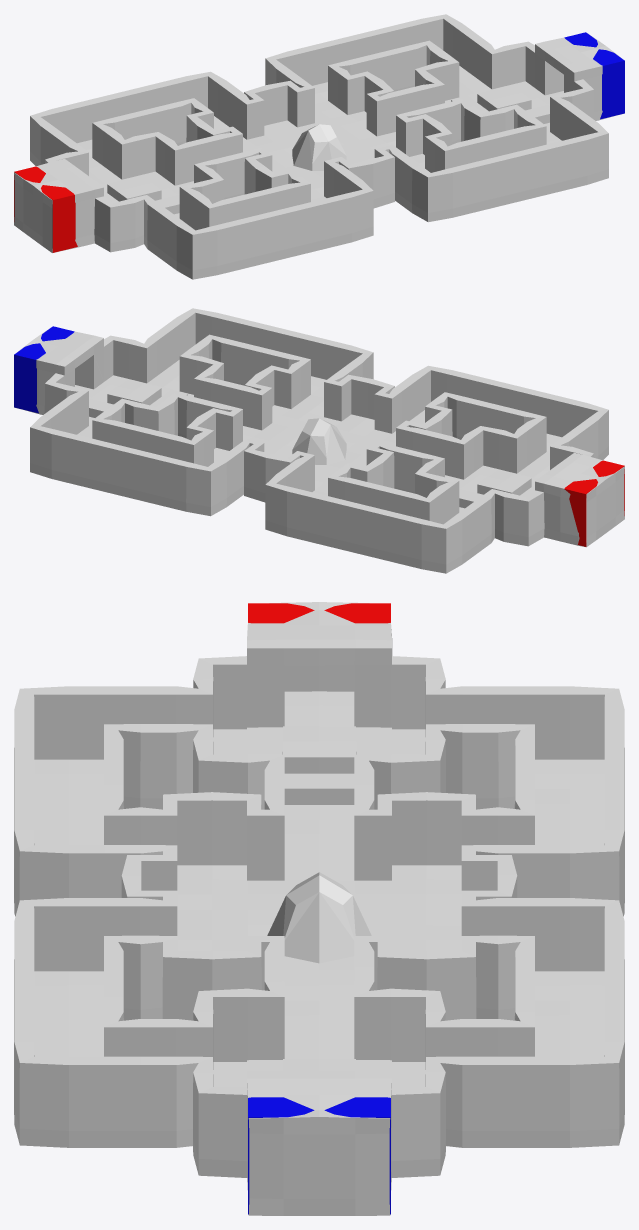
File: arena map no backface culling.fbx
3 views of the same model, one above another, from view 1: azimuth 30°, elevation 25°; view 2: azimuth 150°, elevation 25°; view 3: azimuth 270°, elevation 25° (orthographic). The views are drawn at different scales.
Parts seen in each view (by area): view 1: Plane; view 2: Plane; view 3: Plane.
Part boxes in pixels (x1=…): Plane: x1=14, y1=14, x2=624, y2=279; Plane: x1=14, y1=308, x2=624, y2=573; Plane: x1=14, y1=602, x2=624, y2=1215.
Size of the model in its own units: 170 by 15.38 by 85.4.
